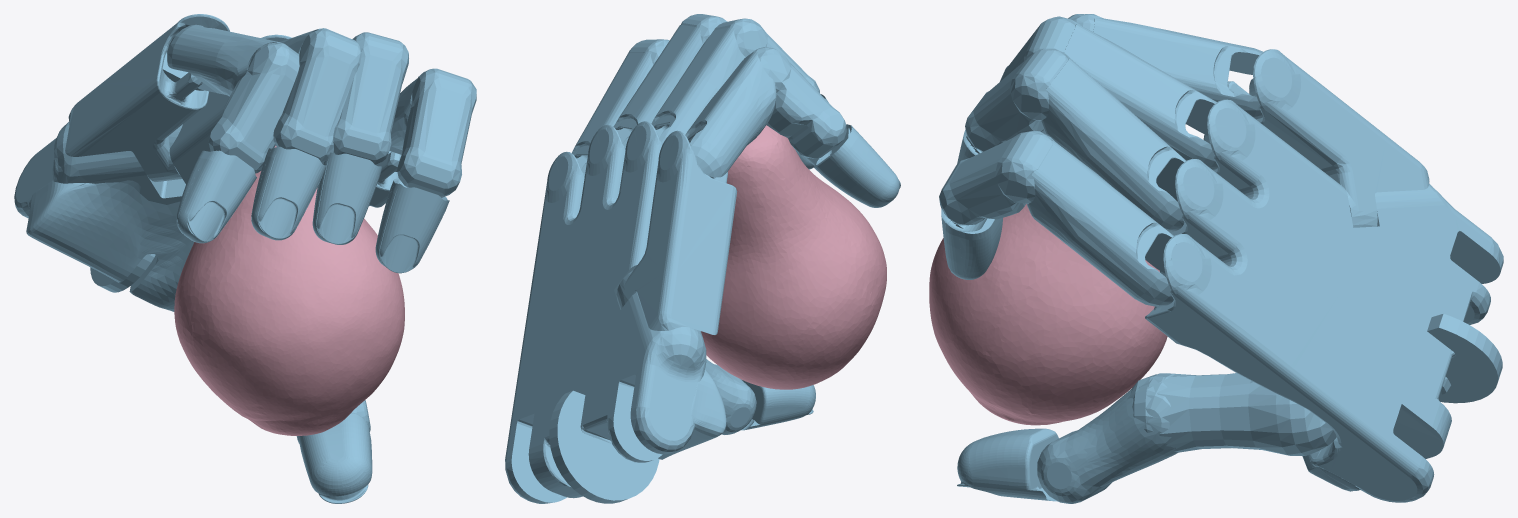
The picture shows the model from 3 angles, left to right: view 1: azimuth 30°, elevation 25°; view 2: azimuth 150°, elevation 25°; view 3: azimuth 270°, elevation 25°; orthographic projection. The views are drawn at different scales.
Parts seen in each view (by area): view 1: world; view 2: world; view 3: world.
Part boxes in pixels (bbox=[...]): world: bbox=[14, 14, 476, 503]; world: bbox=[505, 14, 900, 503]; world: bbox=[929, 14, 1503, 503].
Bounding box in the file's own units: 0.1061 × 0.1428 × 0.1551.
